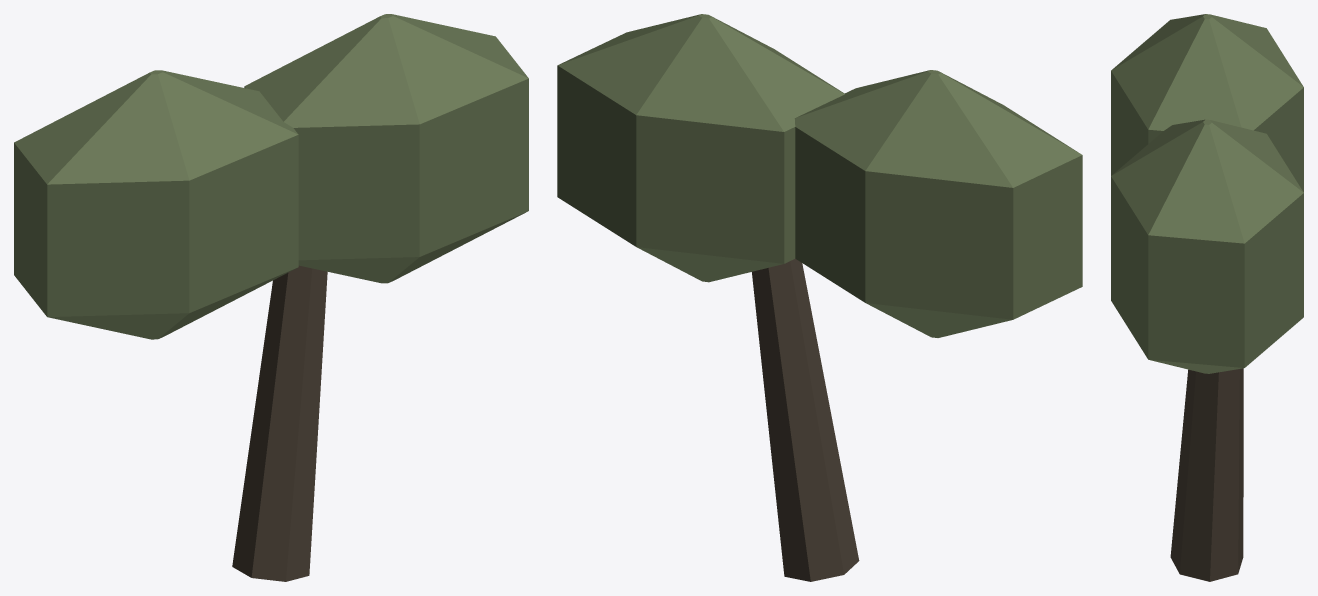
File: NAT_Tree_04_Sapling.glb
The picture shows the model from 3 angles, left to right: view 1: azimuth 30°, elevation 25°; view 2: azimuth 150°, elevation 25°; view 3: azimuth 270°, elevation 25°; orthographic projection. The views are drawn at different scales.
Parts seen in each view (by area): view 1: NAT_Tree_04_Sapling; view 2: NAT_Tree_04_Sapling; view 3: NAT_Tree_04_Sapling.
Part boxes in pixels (bbox=[...]): NAT_Tree_04_Sapling: bbox=[14, 14, 528, 581]; NAT_Tree_04_Sapling: bbox=[557, 14, 1082, 581]; NAT_Tree_04_Sapling: bbox=[1111, 14, 1303, 581].
Size of the model in its own units: 0.8481 by 0.8781 by 0.3091.
